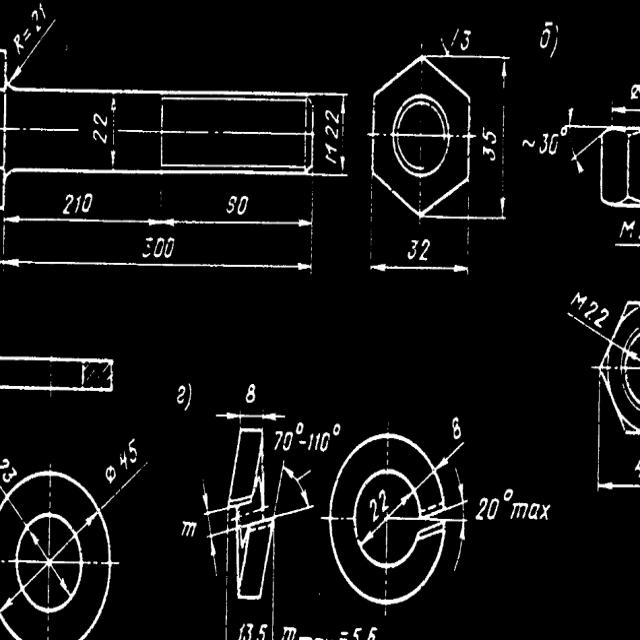marking_line: (0, 256, 312, 276), (9, 23, 61, 86), (4, 216, 162, 229), (498, 59, 510, 214), (283, 463, 319, 514), (165, 218, 312, 230), (571, 134, 602, 179), (373, 263, 467, 274), (212, 409, 285, 423), (207, 540, 222, 589), (564, 120, 608, 132), (339, 98, 346, 169), (195, 482, 212, 511), (110, 98, 116, 165), (614, 241, 640, 251)
numeric: (478, 120, 499, 167), (141, 237, 180, 262), (64, 186, 95, 215), (116, 438, 143, 471), (368, 491, 393, 526), (581, 298, 609, 329), (539, 15, 561, 54), (473, 494, 499, 527), (172, 384, 195, 417), (224, 194, 254, 219), (90, 109, 108, 144), (542, 127, 560, 161), (28, 1, 48, 31), (309, 427, 334, 451), (408, 239, 432, 263), (0, 457, 20, 485), (239, 620, 265, 640), (178, 520, 203, 540), (273, 429, 295, 451), (325, 109, 340, 139), (353, 623, 379, 640), (244, 374, 258, 405), (451, 413, 462, 447), (460, 28, 472, 55)
special_symbol: (103, 465, 121, 483), (500, 486, 515, 503), (332, 418, 345, 437), (294, 422, 304, 436)
